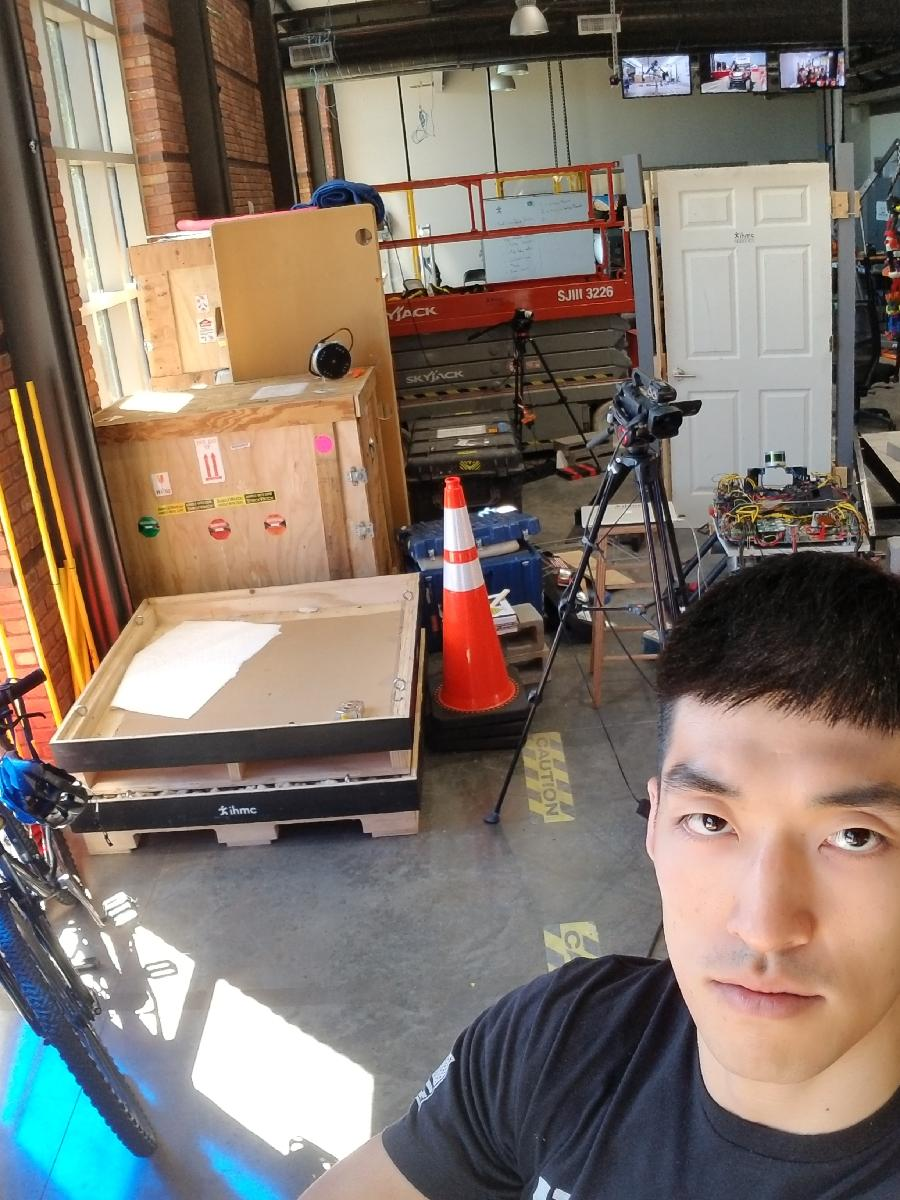door: (652, 160, 836, 546)
doorHandle: (674, 364, 698, 392)
